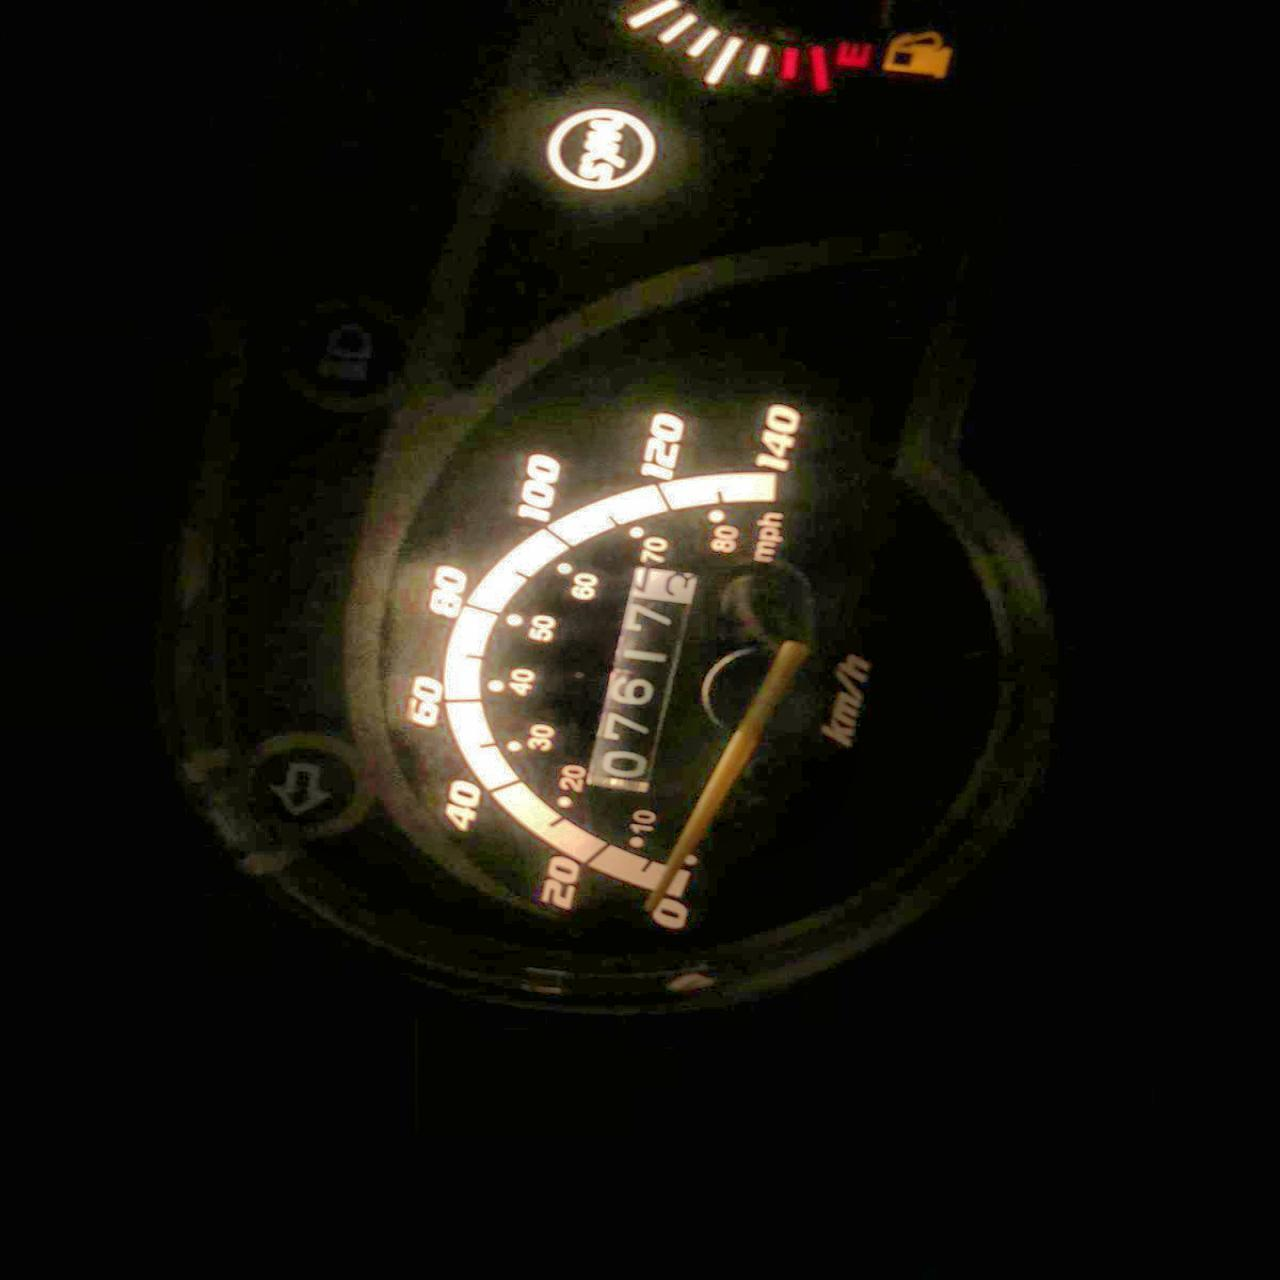0: (594, 749, 652, 779), (568, 572, 599, 586)
1: (618, 642, 667, 665)
3: (655, 568, 699, 600)
6: (602, 672, 659, 704)
7: (619, 601, 672, 633), (599, 710, 649, 740)
odometer: (578, 565, 701, 802)
